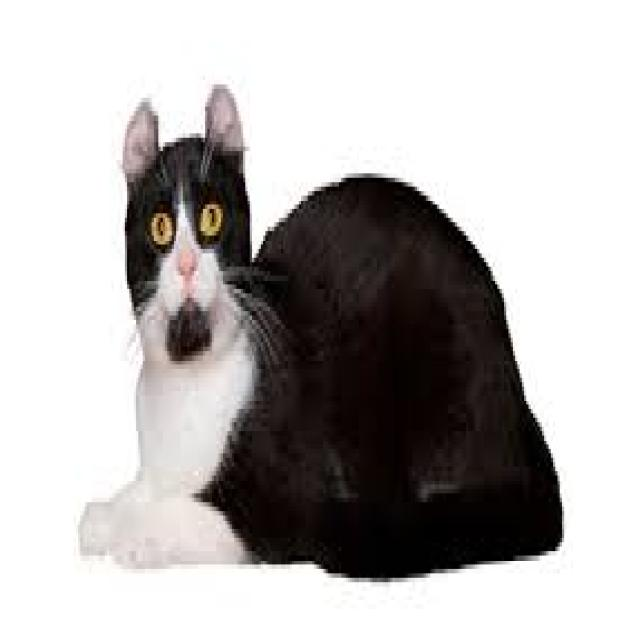American Curl: (73, 74, 568, 588)
